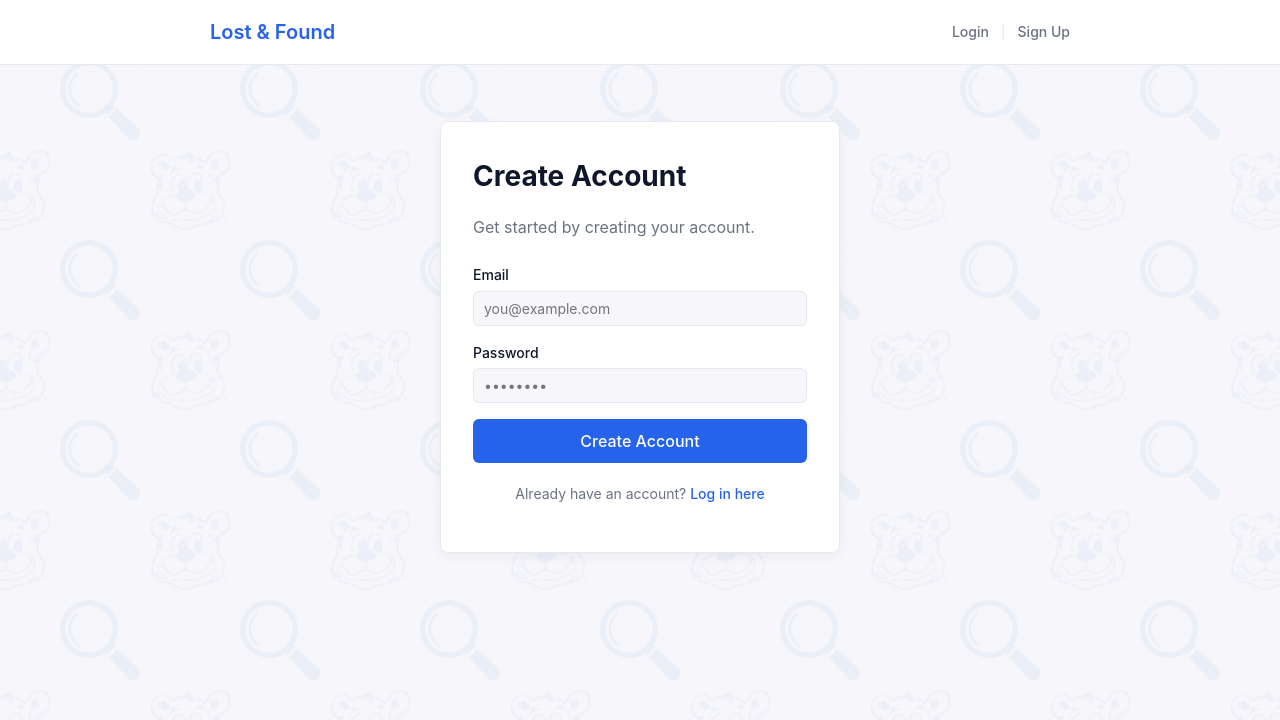
Test case: App auth integration flow › logs in successfully and updates the header to show the user email and logout button
Navigate to the Login page via header
Click the link "Login" at (970, 32), box [952,21,989,43]
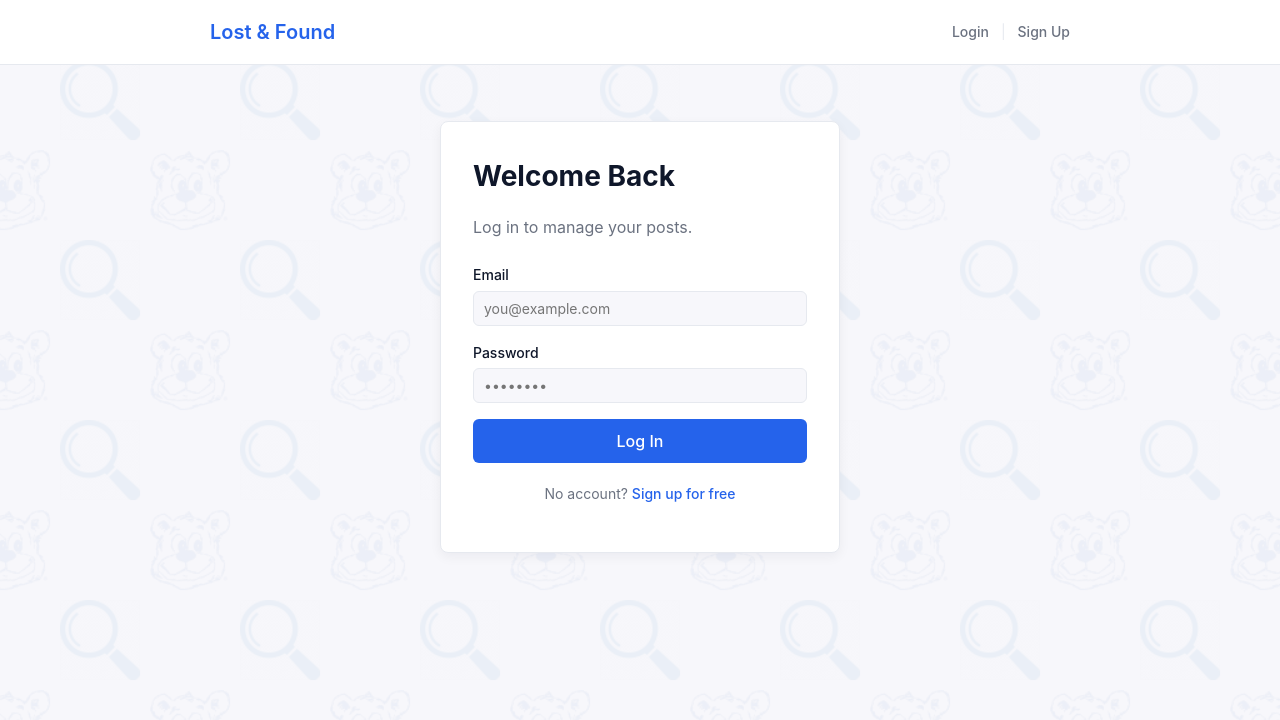
Check: the heading "Welcome Back" is shown, box [473,159,675,193]
Fill out the form and submit
Type "user@example.com" into the field labelled "Email" at (640, 308), box [473,291,807,326]
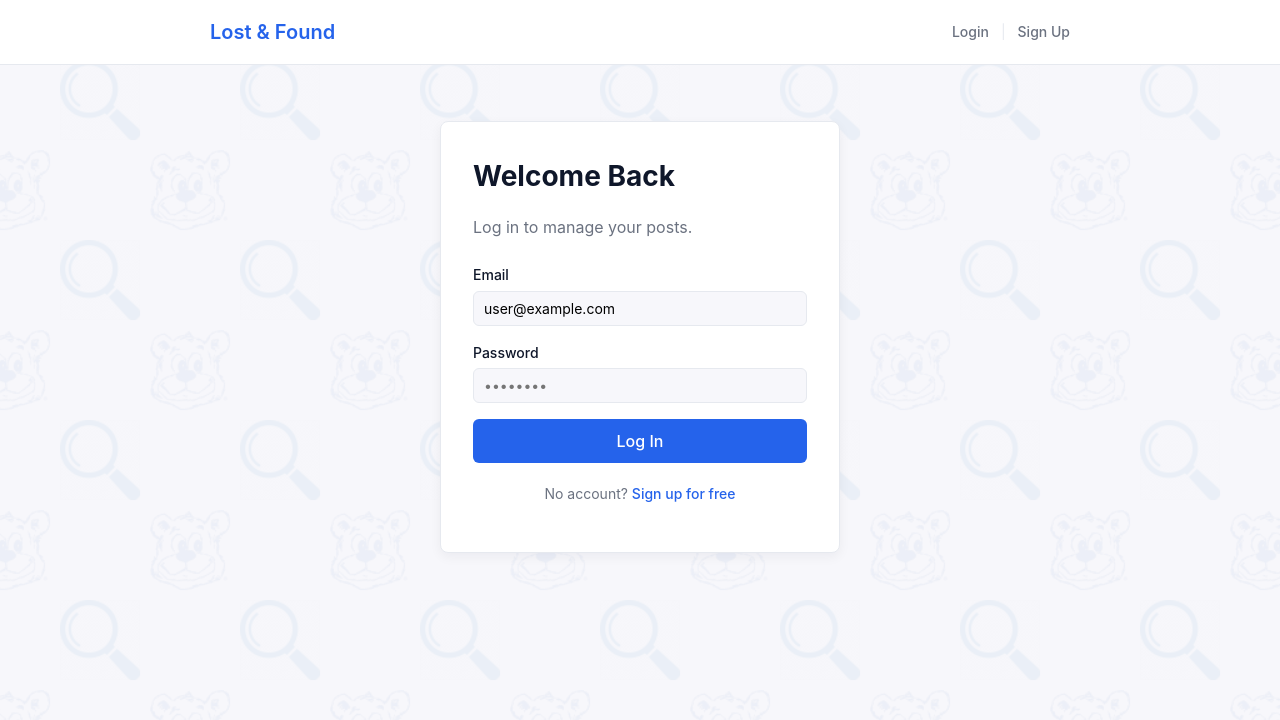
Type "StrongPass1!" into the password field labelled "Password" at (640, 386), box [473,368,807,403]
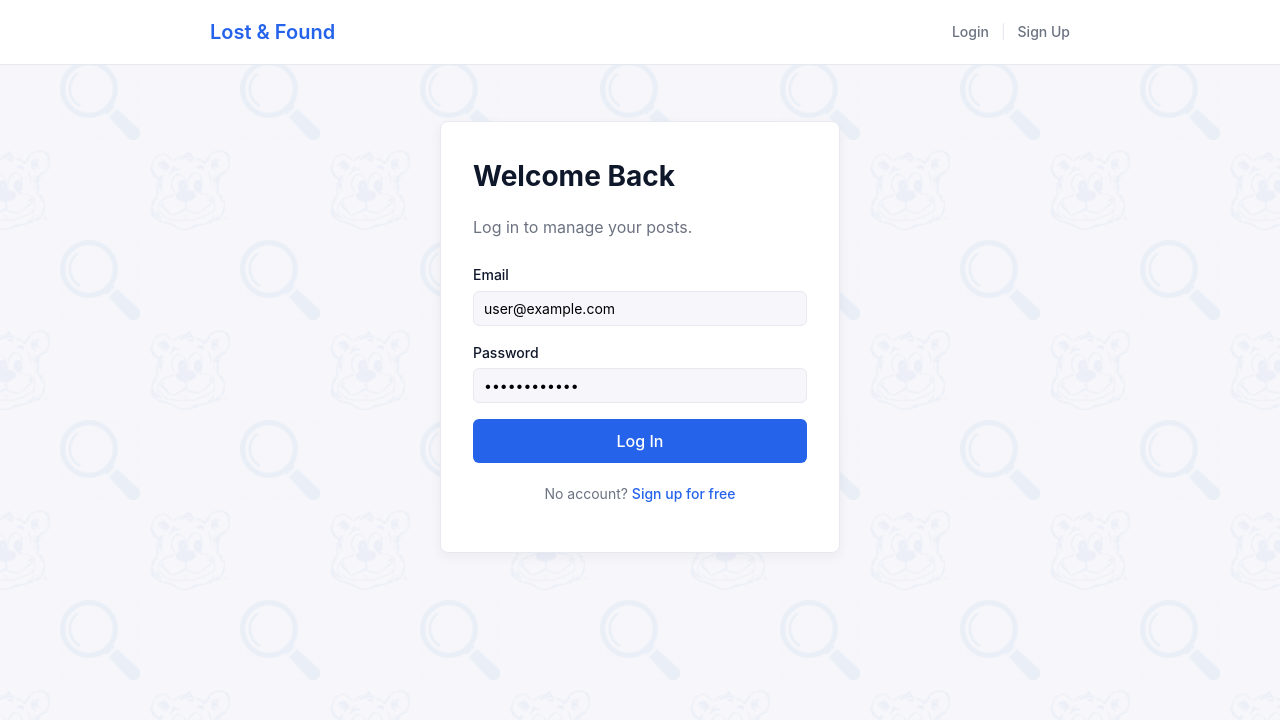
Click the button "Log In" at (640, 441), box [473,419,807,463]
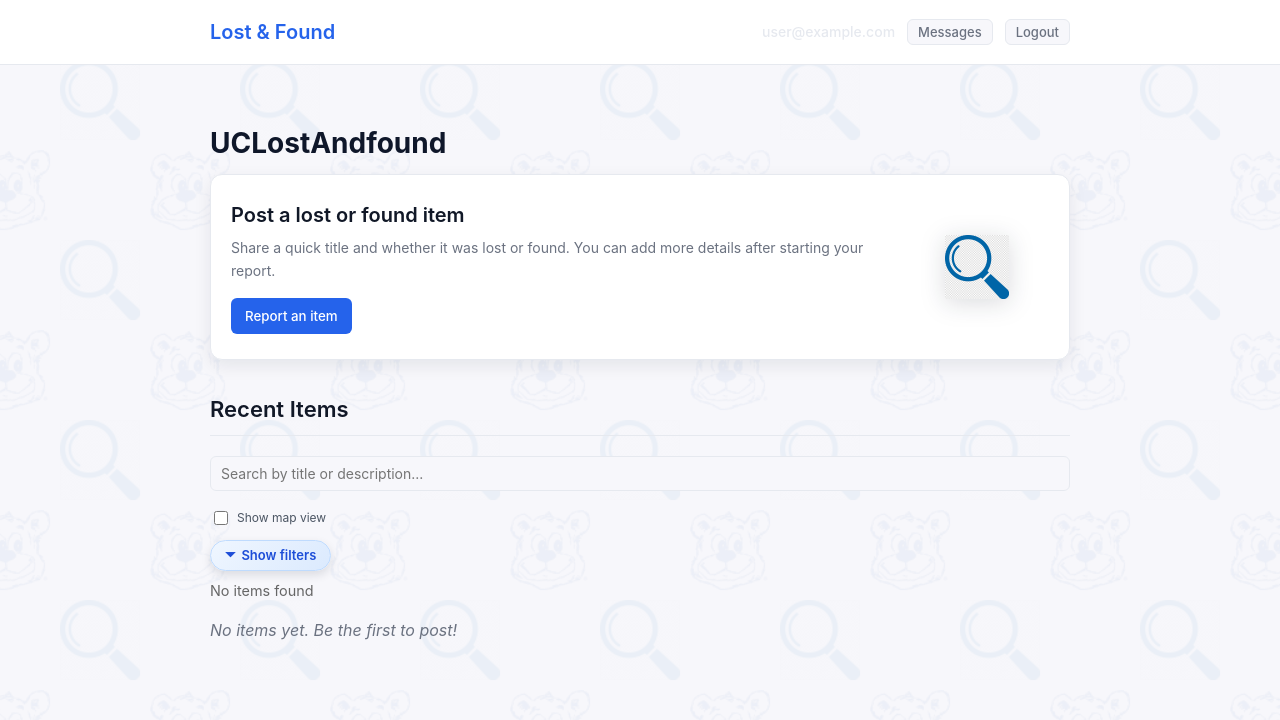
Check: the text "user@example.com" is shown, box [762,21,895,43]
Check: the button "Logout" is shown, box [1005,19,1070,45]
Check: the link "Login" is gone
